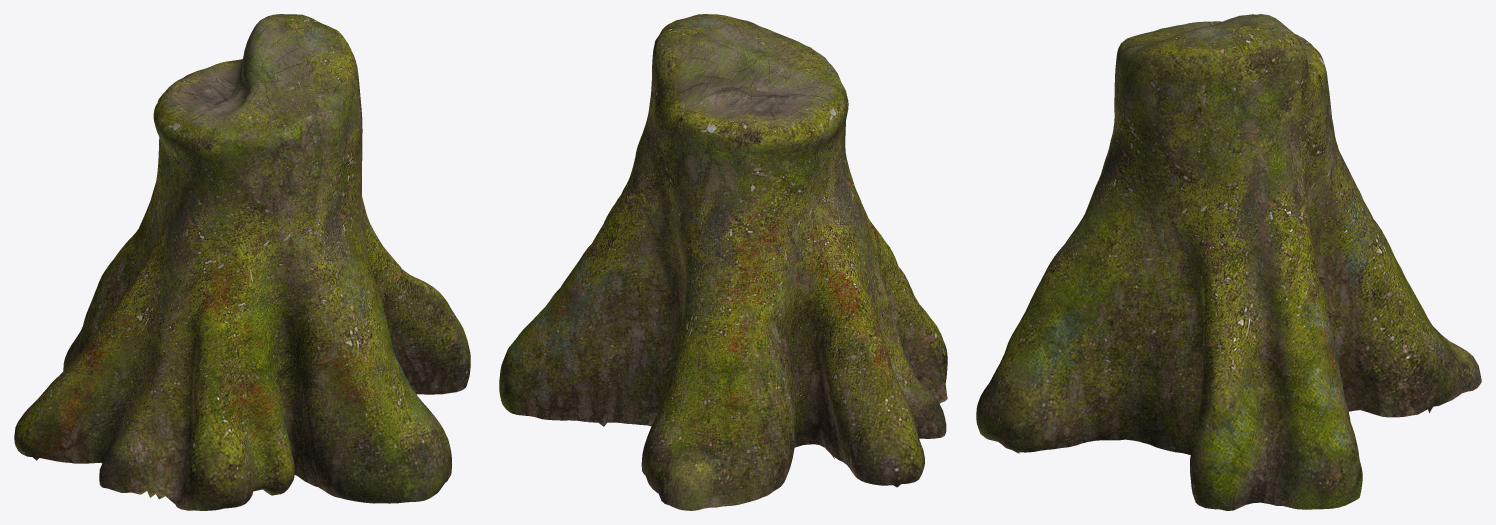
Rendered from PW_Tree_Stump_01.fbx.
3 views of the same model, side by side, from view 1: azimuth 30°, elevation 25°; view 2: azimuth 150°, elevation 25°; view 3: azimuth 270°, elevation 25° (orthographic). The views are drawn at different scales.
Visible parts, largest first — view 1: PW_Tree_Stump_LOD0; view 2: PW_Tree_Stump_LOD0; view 3: PW_Tree_Stump_LOD0.
Boxes of the visible parts, x1,y1,x2,y2 form: PW_Tree_Stump_LOD0: (14, 14, 470, 510); PW_Tree_Stump_LOD0: (499, 14, 947, 510); PW_Tree_Stump_LOD0: (976, 14, 1481, 510).
Size of what is drawn, in the model's own units: 86.51 by 77.33 by 86.49.
1 material, 1 textured.
